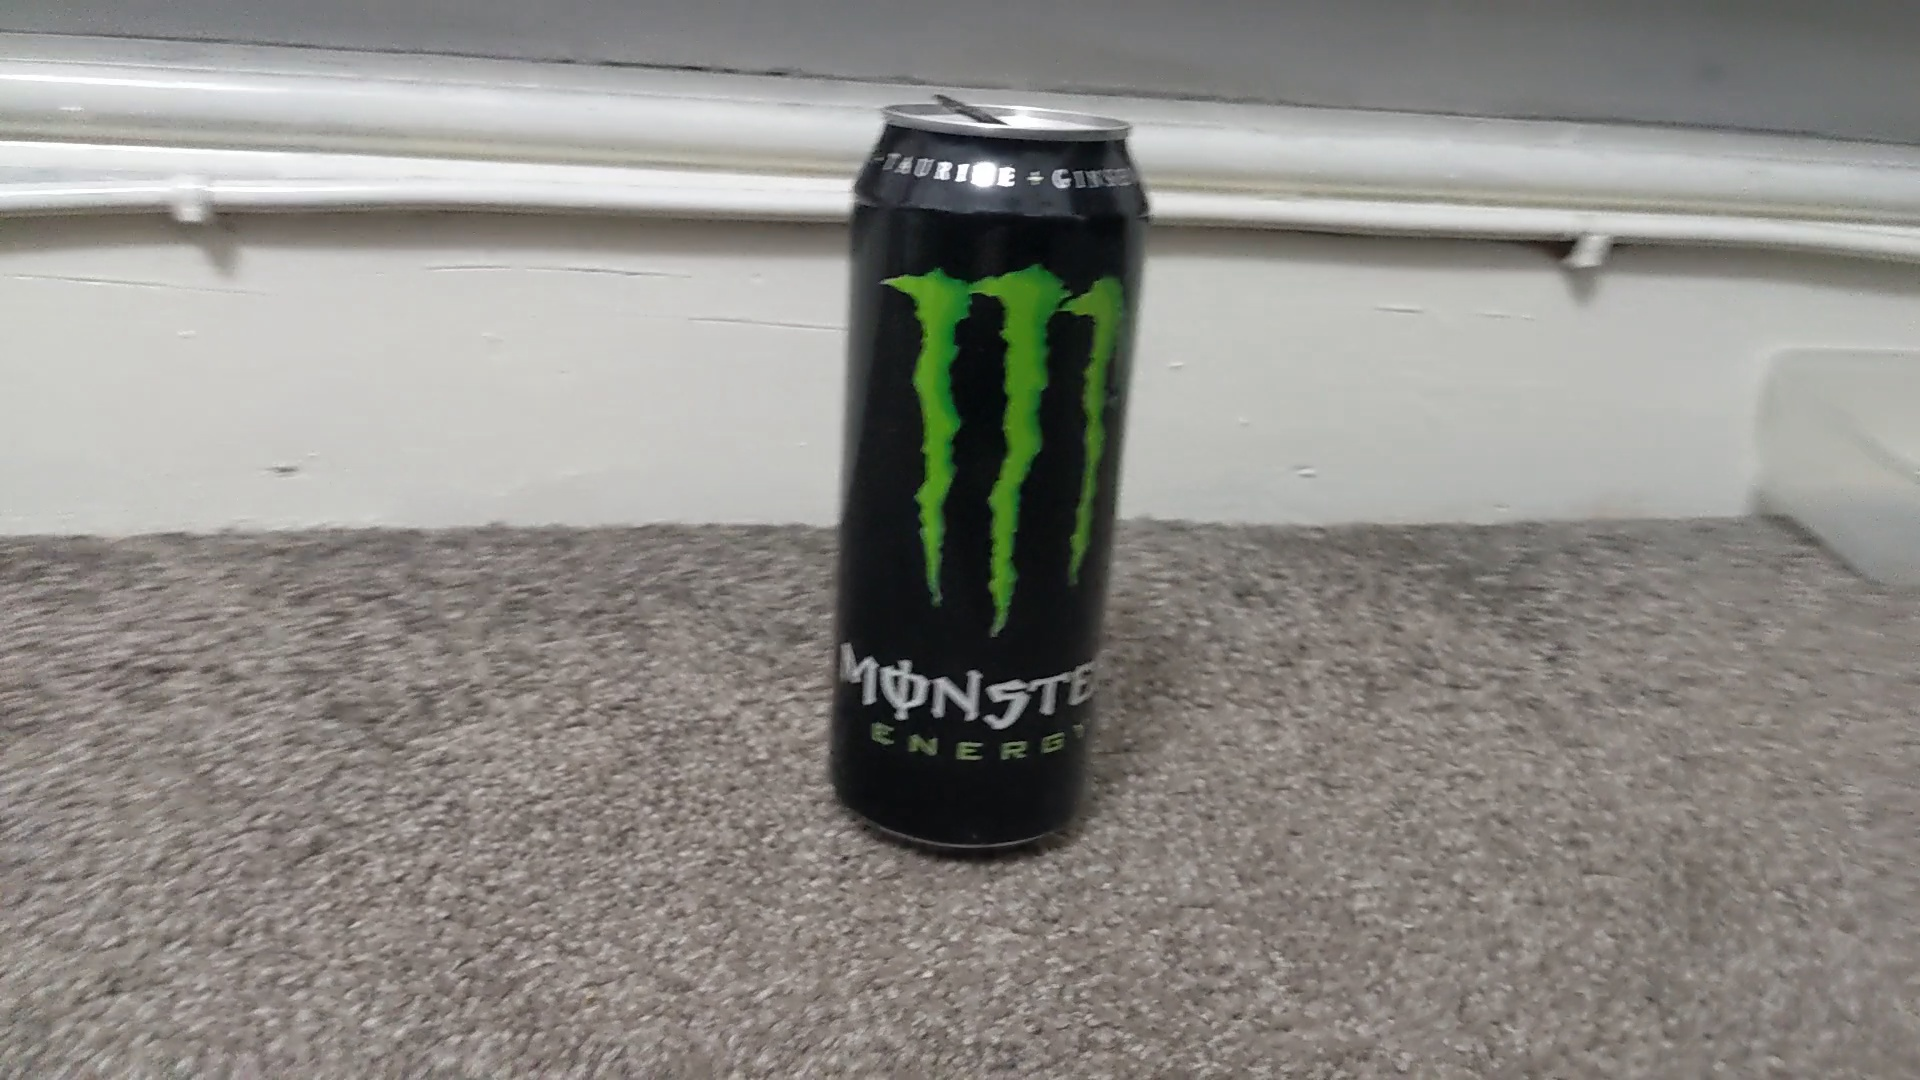monster-original: (824, 105, 1153, 851)
